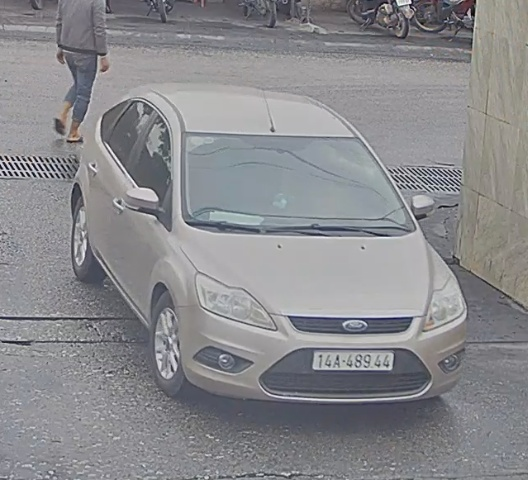vehicle plate: (307, 346, 398, 375)
